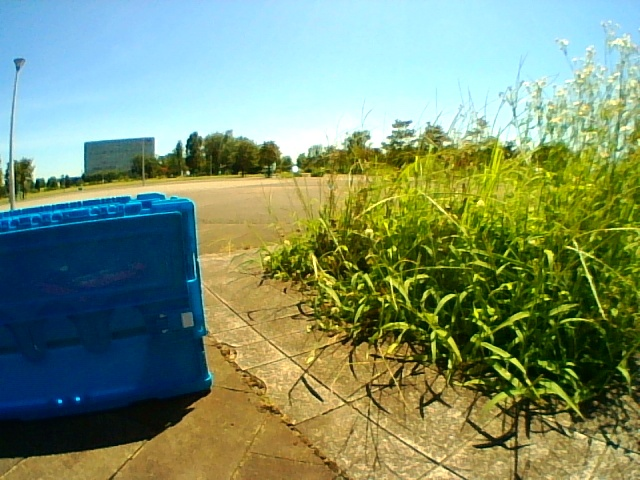blue_box: (1, 211, 196, 395)
